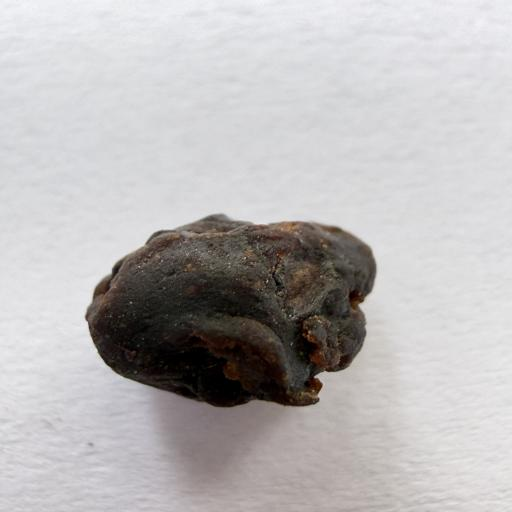Black_pepper: (61, 199, 406, 414)
